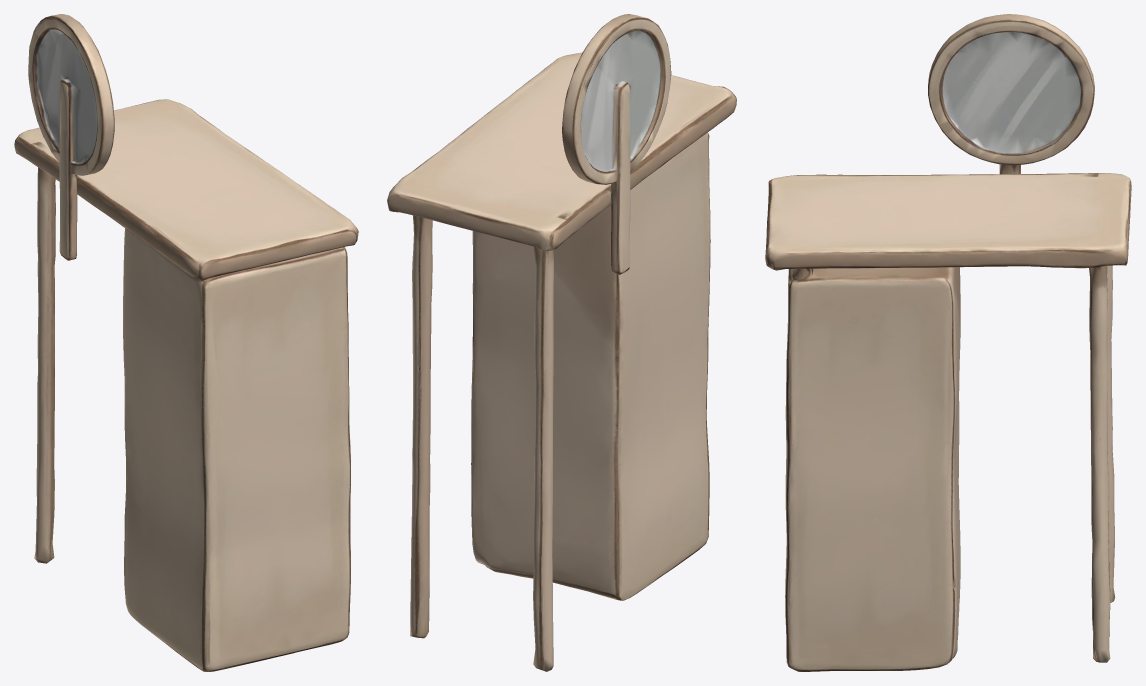
File: vanity.glb
The picture shows the model from 3 angles, left to right: view 1: azimuth 30°, elevation 25°; view 2: azimuth 150°, elevation 25°; view 3: azimuth 270°, elevation 25°; orthographic projection. The views are drawn at different scales.
Visible parts, largest first — view 1: tripo_node_ad2f29f4-7ad8-469b-be3c-b2472c7d8dbd; view 2: tripo_node_ad2f29f4-7ad8-469b-be3c-b2472c7d8dbd; view 3: tripo_node_ad2f29f4-7ad8-469b-be3c-b2472c7d8dbd.
Part boxes in pixels (x1,y1,x2,y2): tripo_node_ad2f29f4-7ad8-469b-be3c-b2472c7d8dbd: [14, 14, 358, 671]; tripo_node_ad2f29f4-7ad8-469b-be3c-b2472c7d8dbd: [387, 14, 736, 671]; tripo_node_ad2f29f4-7ad8-469b-be3c-b2472c7d8dbd: [765, 14, 1131, 671].
Size of the model in its own units: 0.3248 by 1 by 0.5766.
Materials: 1 (1 with a texture image).
